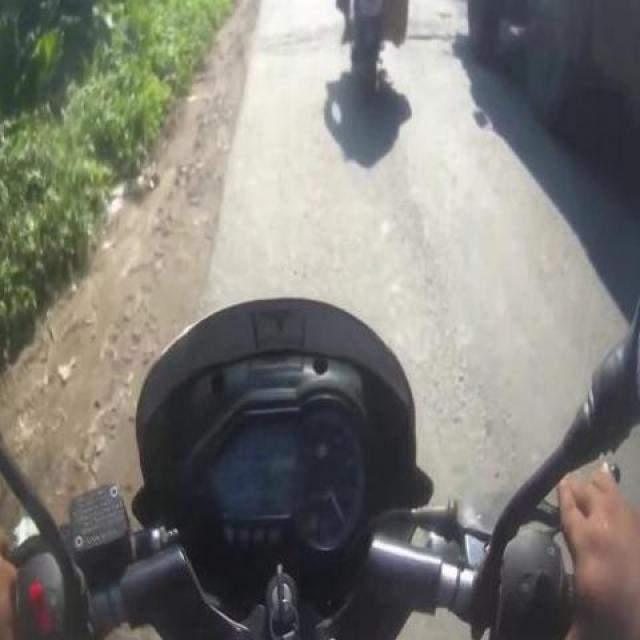Unmarked Bump: (244, 17, 344, 52), (406, 12, 468, 40)
